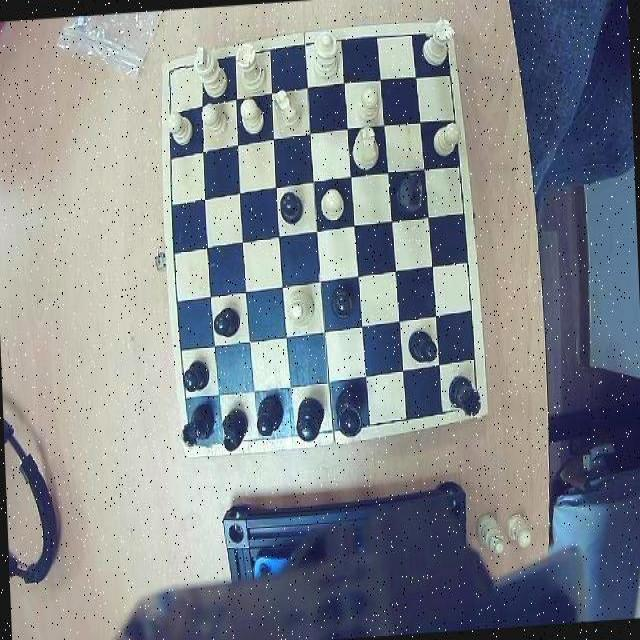chess-table-corners: (453, 384, 486, 419), (182, 423, 215, 454), (426, 25, 455, 55), (162, 61, 188, 88)
